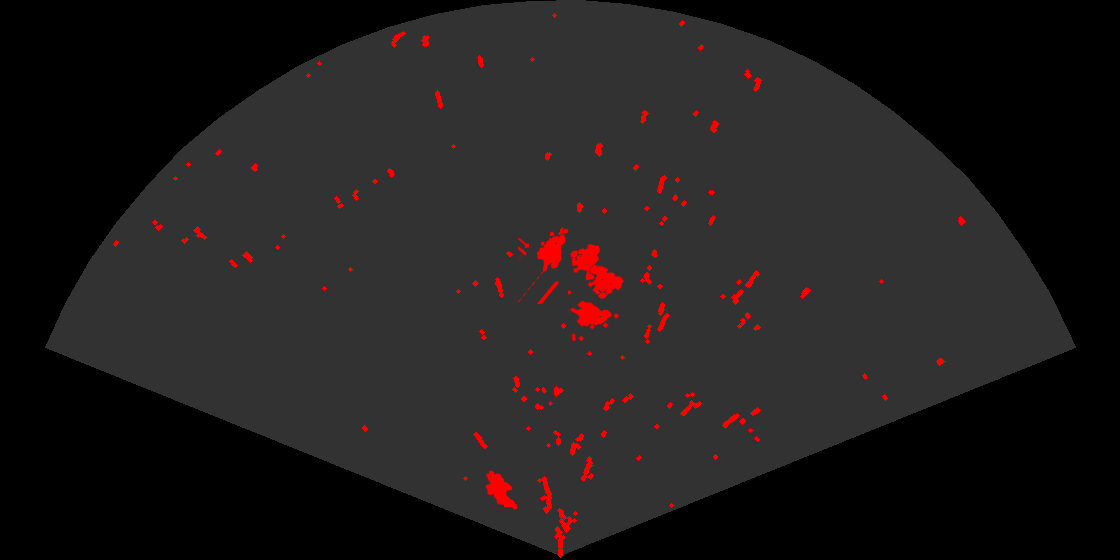AUV: (484, 469, 519, 511)
cage: (518, 227, 602, 304), (568, 263, 625, 341)
